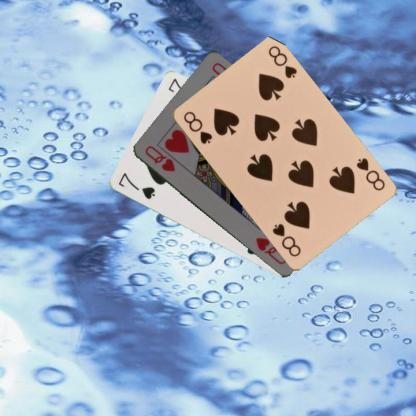7s: (115, 170, 156, 200)
8s: (180, 108, 213, 146), (353, 155, 386, 192)
Qh: (142, 142, 178, 173)
